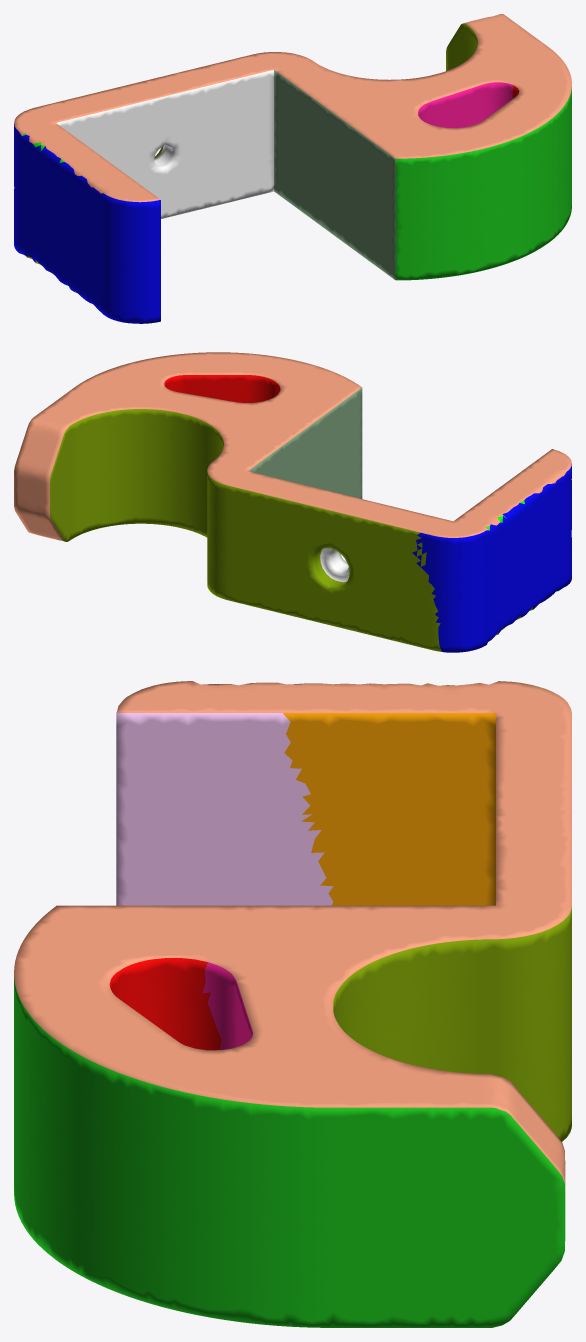
File: model_18_segmented_new.obj
3 renders of one model, top to bottom at view 1: azimuth 30°, elevation 25°; view 2: azimuth 150°, elevation 25°; view 3: azimuth 270°, elevation 25°, orthographic. The views are drawn at different scales.
Size of the model in its own units: 133 by 32 by 73.5.
